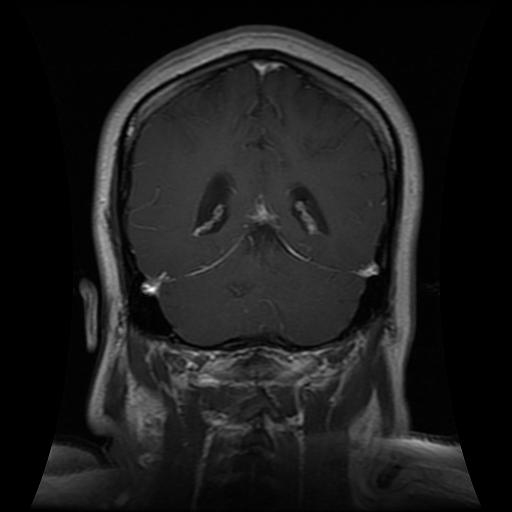Gliomia_tumour: (238, 190, 290, 258)
